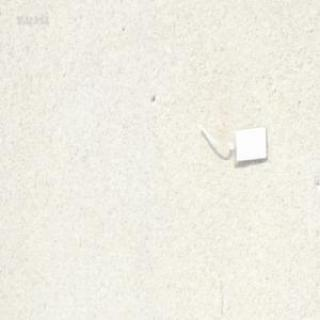LuggageTagtrack_idkeyframe: (195, 120, 268, 166)
